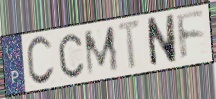C: (25, 35, 56, 88), (57, 32, 85, 79)
F: (175, 10, 207, 64)
M: (82, 24, 121, 78)
N: (145, 13, 178, 70)
T: (116, 18, 144, 73)
